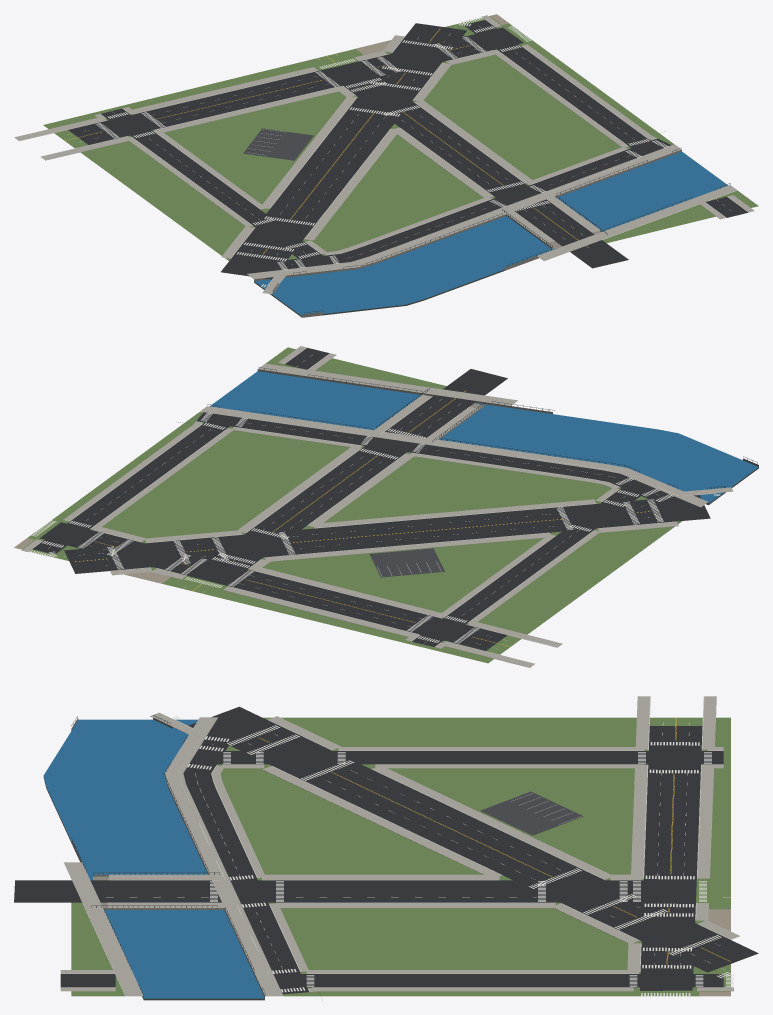
Rendered from Ground_2_2.fbx.
The picture shows the model from 3 angles, top to bottom: view 1: azimuth 30°, elevation 25°; view 2: azimuth 150°, elevation 25°; view 3: azimuth 270°, elevation 25°; orthographic projection. The views are drawn at different scales.
Parts seen in each view (by area): view 1: Ground_2_2; view 2: Ground_2_2; view 3: Ground_2_2.
Boxes of the visible parts, left/top/right/bottom form: Ground_2_2: left=14, top=14, right=758, bottom=317; Ground_2_2: left=14, top=346, right=758, bottom=667; Ground_2_2: left=14, top=696, right=758, bottom=1000.
Size of the model in its own units: 273 by 2.7 by 282.
